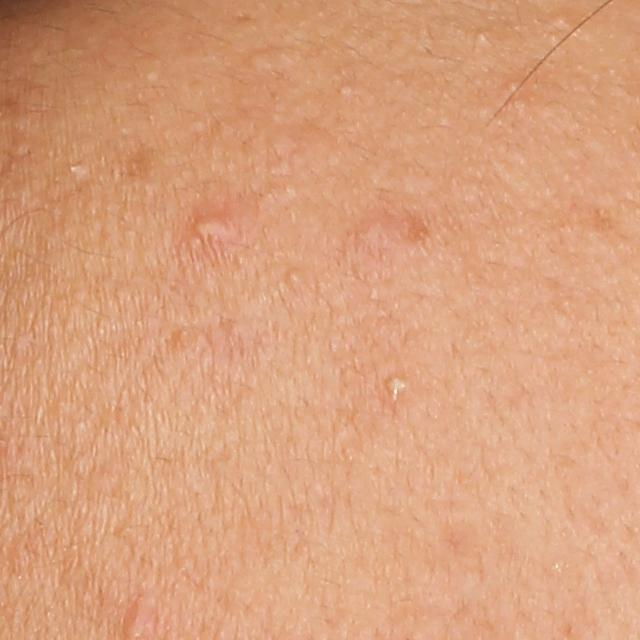comedo: (245, 45, 274, 74), (282, 266, 305, 289), (65, 160, 86, 179), (474, 30, 491, 47), (336, 82, 352, 94)
